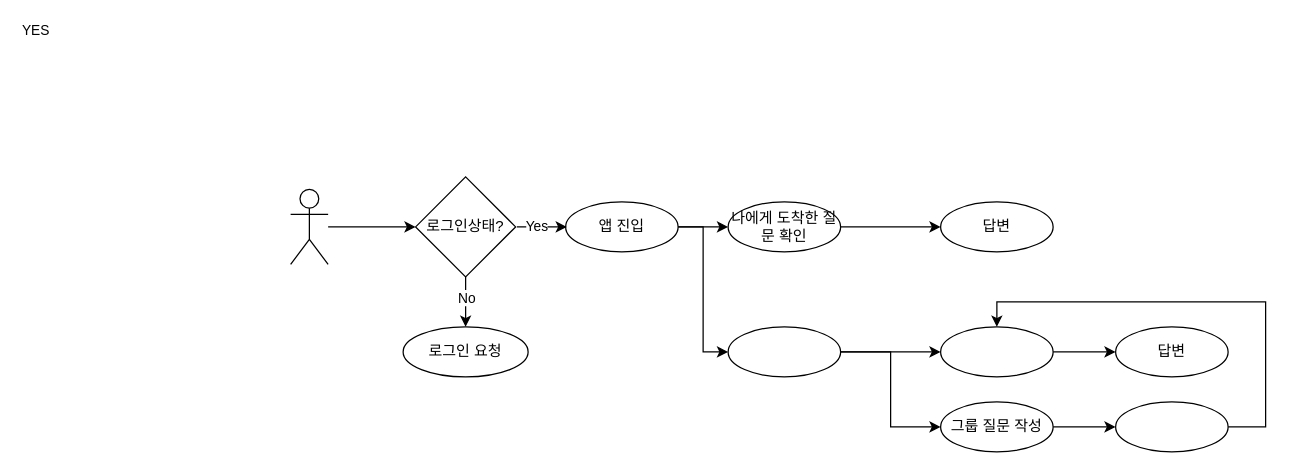
Some shapes in this 1298 by 474 pixel diagram are drawn without their labels. Each missing label, with the centre of its shape:
Actor: point (308, 226)
그룹 질문 확인: point (996, 351)
그룹 질문창: point (784, 351)
전송: point (1171, 426)
